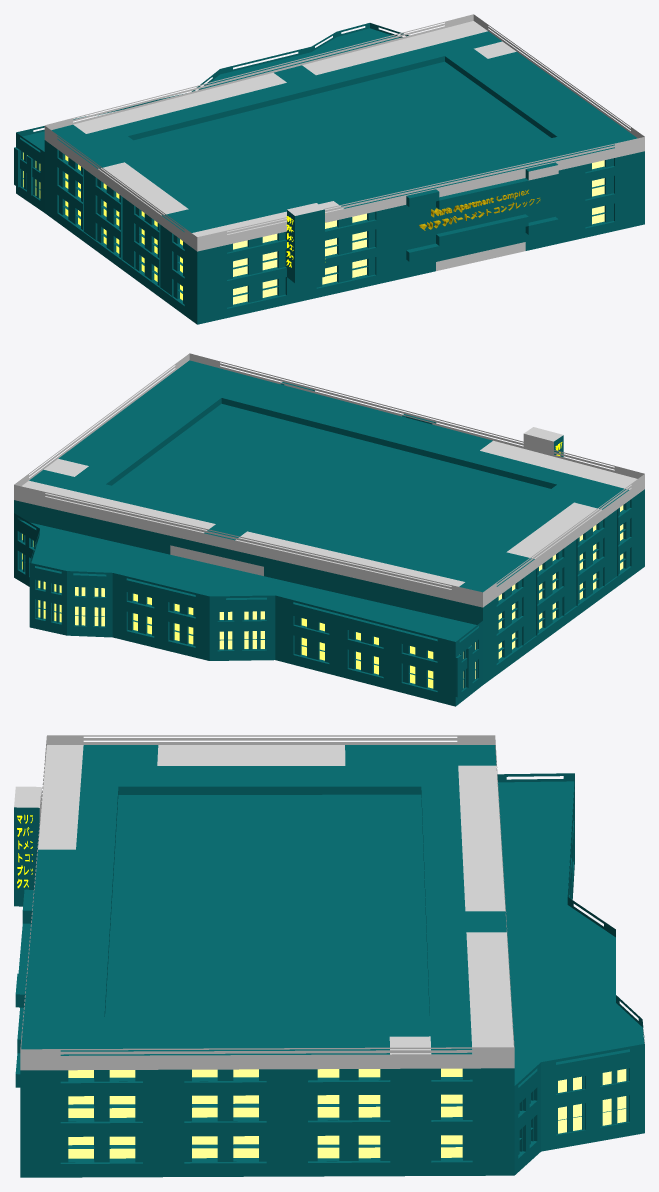
Rendered from maria_apartment_complex.fbx.
3 views of the same model, one above another, from view 1: azimuth 30°, elevation 25°; view 2: azimuth 150°, elevation 25°; view 3: azimuth 270°, elevation 25° (orthographic). The views are drawn at different scales.
Visible parts, largest first — view 1: Plane, Text, Text.001; view 2: Plane; view 3: Plane.
Boxes of the visible parts, box(x1,y1,x2,y2) form: Plane: box(14, 14, 644, 324); Text: box(431, 189, 528, 217); Text.001: box(419, 197, 540, 230); Plane: box(14, 353, 644, 706); Plane: box(14, 735, 644, 1177).
Bounding box in the file's own units: 834 × 172 × 703.
